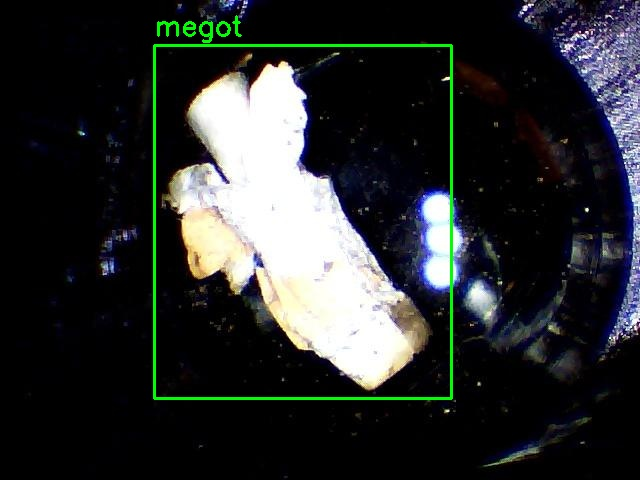megot: (154, 45, 451, 398)
